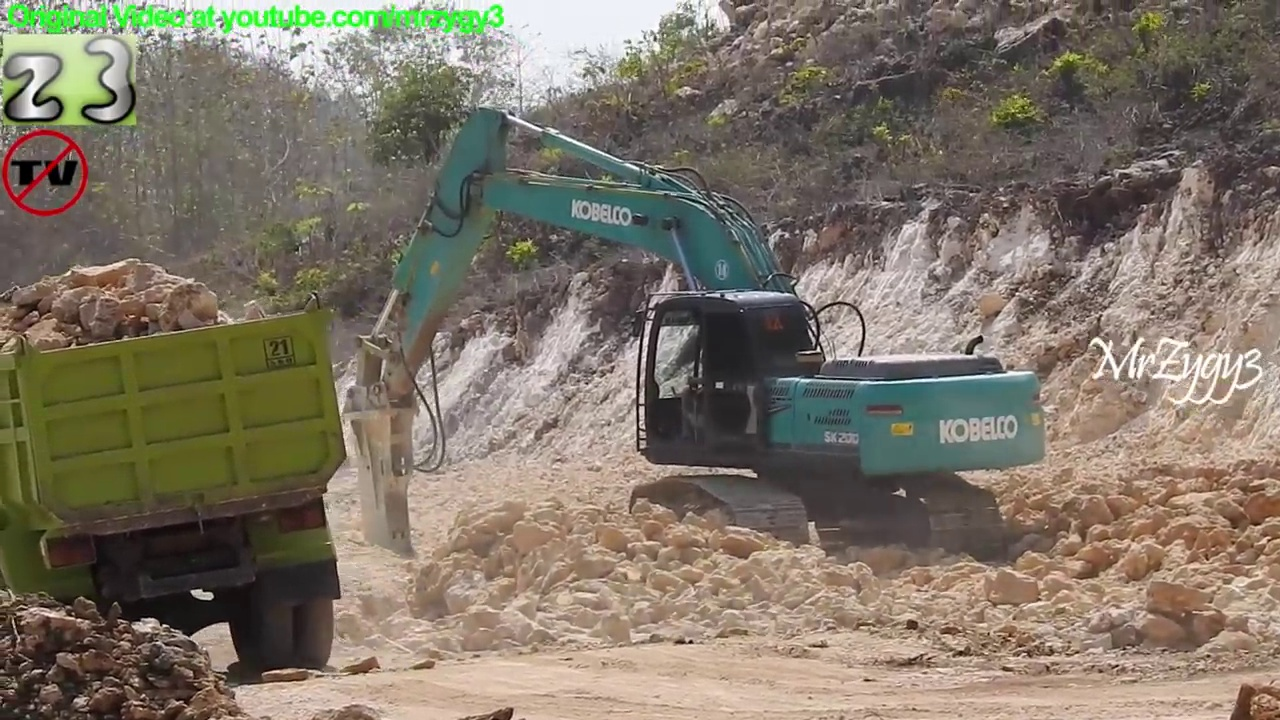excavator breaker: (340, 102, 1058, 572)
truck: (1, 296, 355, 690)
